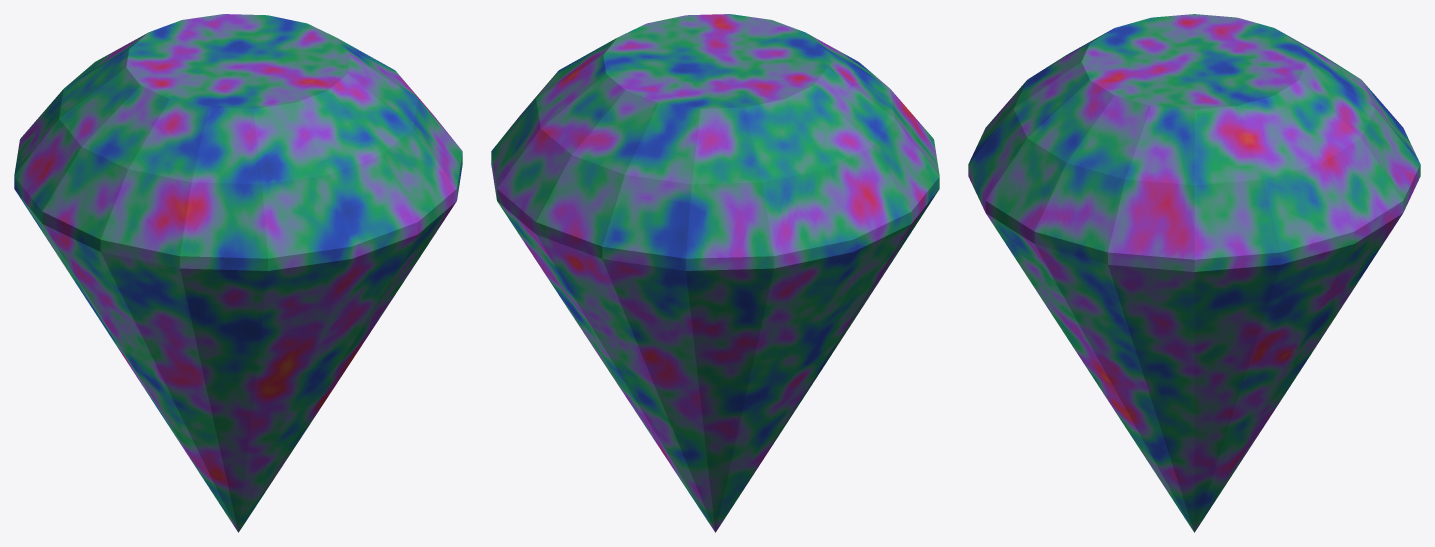
Rendered from SM_Opal_Perfect.fbx.
The picture shows the model from 3 angles, left to right: view 1: azimuth 30°, elevation 25°; view 2: azimuth 150°, elevation 25°; view 3: azimuth 270°, elevation 25°; orthographic projection.
Parts seen in each view (by area): view 1: SM_Opal_Perfect; view 2: SM_Opal_Perfect; view 3: SM_Opal_Perfect.
Boxes of the visible parts, x1,y1,x2,y2 form: SM_Opal_Perfect: [14, 14, 462, 532]; SM_Opal_Perfect: [491, 14, 939, 532]; SM_Opal_Perfect: [968, 14, 1420, 532].
Size of the model in its own units: 20 by 20 by 23.
